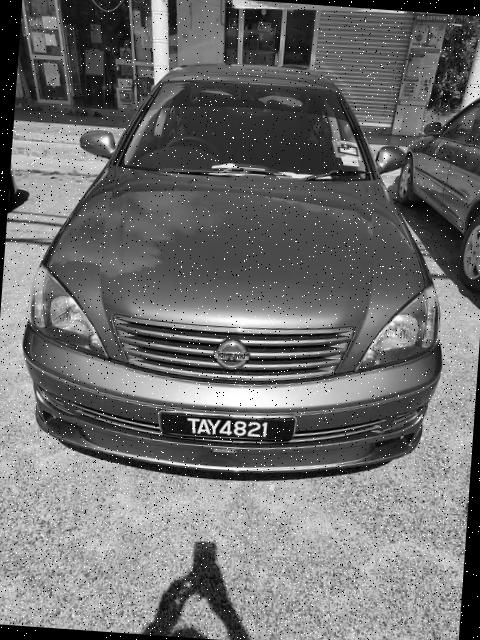License_Plate: (165, 407, 283, 449)
car: (23, 34, 462, 493)
